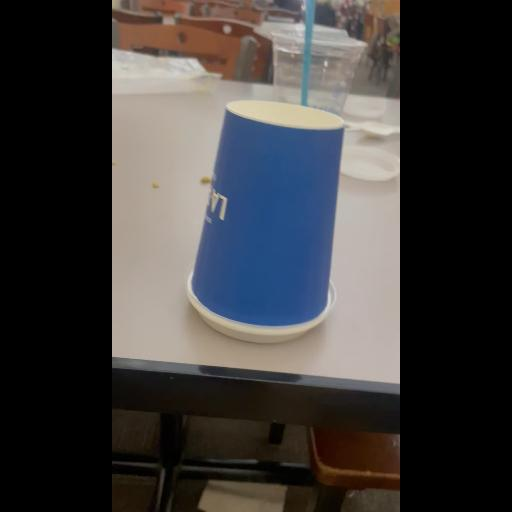lp_paper_cup: (166, 90, 346, 340)
